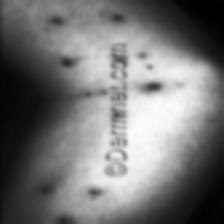Toxin: (146, 83, 162, 93), (111, 13, 122, 23)
